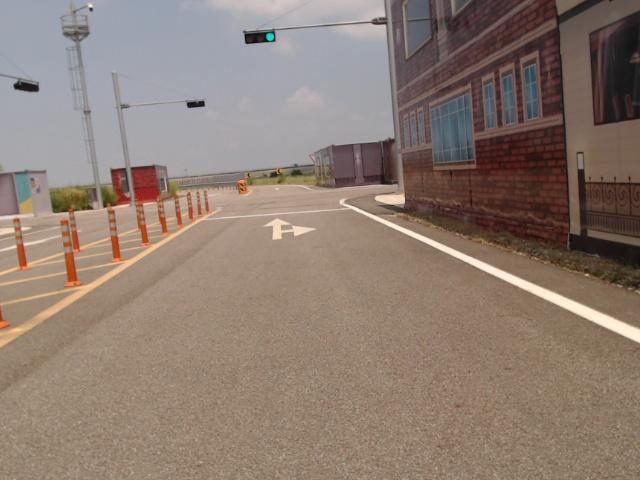green_3: (245, 32, 276, 43)
